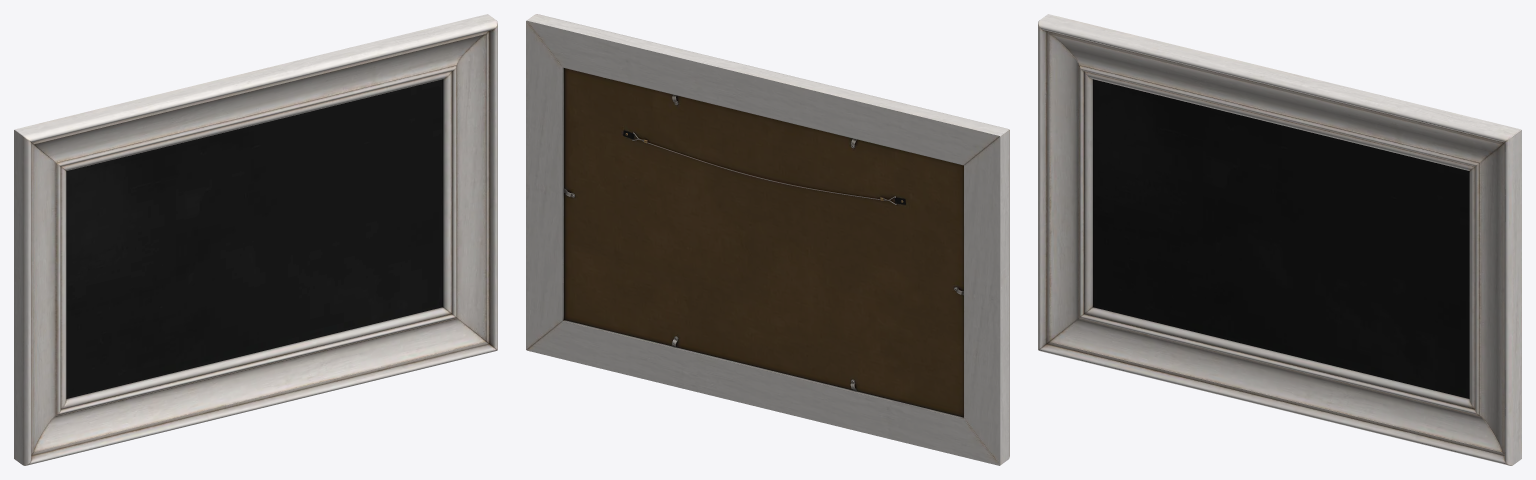
Rendered from ph-hanging_picture_frame_02.glb.
3 renders of one model, left to right at view 1: azimuth 30°, elevation 25°; view 2: azimuth 150°, elevation 25°; view 3: azimuth 330°, elevation 25°, orthographic.
Visible parts, largest first — view 1: hanging_picture_frame_02; view 2: hanging_picture_frame_02; view 3: hanging_picture_frame_02.
Part boxes in pixels (left/top/right/bottom): hanging_picture_frame_02: left=14, top=14, right=497, bottom=465; hanging_picture_frame_02: left=526, top=14, right=1009, bottom=465; hanging_picture_frame_02: left=1038, top=14, right=1521, bottom=465.
Size of the model in its own units: 1 by 0.665 by 0.0439.
Materials: 3 (3 with a texture image).
